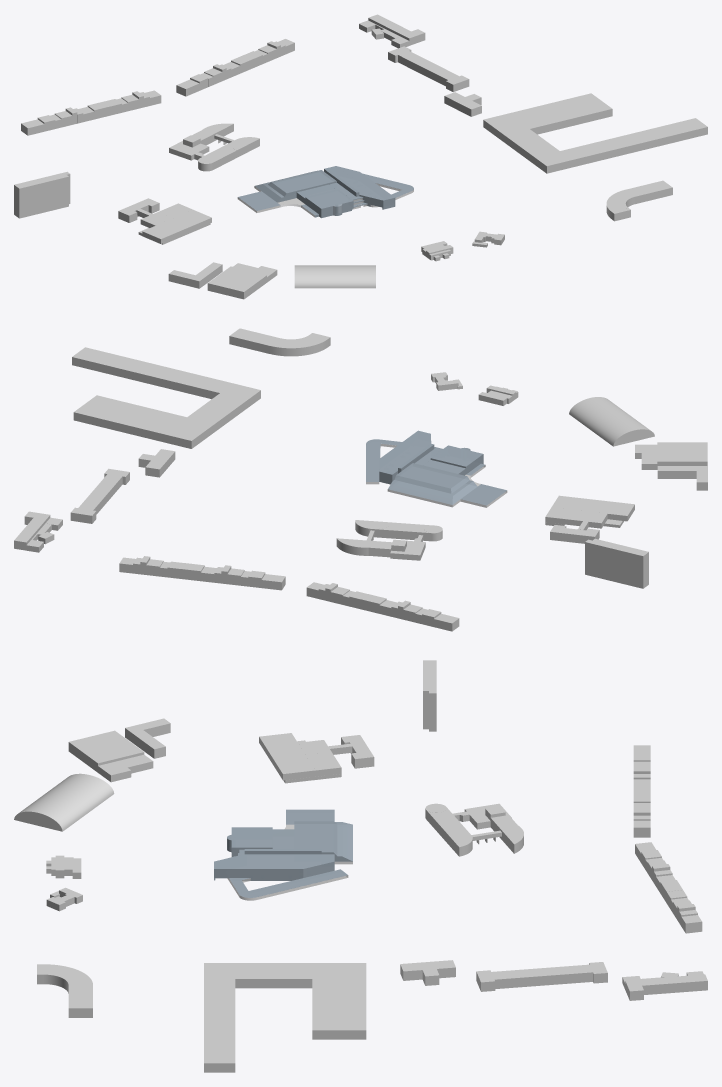
Rendered from Project_SAS_Main_with_OB.obj.
3 views of the same model, one above another, from view 1: azimuth 30°, elevation 25°; view 2: azimuth 150°, elevation 25°; view 3: azimuth 270°, elevation 25° (orthographic). The views are drawn at different scales.
Parts seen in each view (by area): view 1: Cube.7, Cube.4_3, OB_SPINNKERSP_NETBALL, Cube_6, Cube_7, Cube.1_9, Cube.2_3, Cube.5_10, Cube.3_3, Cube.2_6, Cube.3_10, Cube.1_3 (+6 smaller); view 2: Cube.4_3, Cube.7, OB_SPINNKERSP_NETBALL, Cube_6, Cube.5_10, Cube_7, Cube.2_3, Cube.1_9, Cube.4_11, Tube, Cube.3_3, Cube.3_10 (+13 smaller); view 3: Cube.4_3, Cube.7, OB_SPINNKERSP_NETBALL, Cube.2_3, Cube.3_3, Cube_7, Cube.1_9, Cube.5_10, Cube.1_2, Cube_11, RS-RoofTop, Tube (+11 smaller).
Boxes of the visible parts, <box> form: Cube.7: <box>534,118,707,173</box>; Cube.4_3: <box>483,93,612,141</box>; OB_SPINNKERSP_NETBALL: <box>294,265,375,288</box>; Cube_6: <box>14,173,68,218</box>; Cube_7: <box>207,266,266,299</box>; Cube.1_9: <box>142,210,211,243</box>; Cube.2_3: <box>504,129,559,164</box>; Cube.5_10: <box>268,170,336,196</box>; Cube.3_3: <box>398,51,458,86</box>; Cube.2_6: <box>626,180,672,203</box>; Cube.3_10: <box>202,141,250,169</box>; Cube.1_3: <box>444,92,481,116</box>; Cube.4_3: <box>73,395,214,448</box>; Cube.7: <box>72,347,260,407</box>; OB_SPINNKERSP_NETBALL: <box>569,397,654,446</box>; Cube_6: <box>589,538,648,588</box>; Cube.5_10: <box>394,463,469,493</box>; Cube_7: <box>657,442,707,469</box>; Cube.2_3: <box>187,393,247,431</box>; Cube.1_9: <box>552,495,634,521</box>; Cube.4_11: <box>388,480,477,504</box>; Tube: <box>270,335,327,356</box>; Cube.3_3: <box>78,474,122,514</box>; Cube.3_10: <box>369,522,432,541</box>; Cube.4_3: <box>312,963,366,1039</box>; Cube.7: <box>204,963,235,1072</box>; OB_SPINNKERSP_NETBALL: <box>14,773,114,831</box>; Cube.2_3: <box>234,963,312,988</box>; Cube.3_3: <box>491,964,592,988</box>; Cube_7: <box>68,730,144,772</box>; Cube.1_9: <box>259,733,315,780</box>; Cube.5_10: <box>294,821,337,856</box>; Cube.1_2: <box>639,974,707,994</box>; Cube_11: <box>231,827,272,847</box>; RS-RoofTop: <box>239,869,347,897</box>; Tube: <box>44,964,92,993</box>.
Size of the model in its own units: 25286 by 1211 by 19805.
